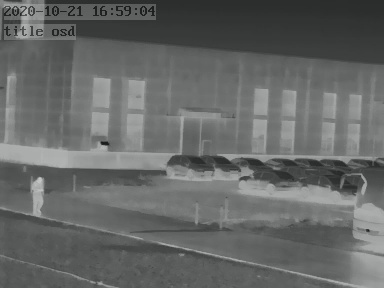person: (30, 175, 44, 215)
vehicle: (239, 169, 302, 193), (164, 152, 212, 179), (307, 174, 355, 200), (203, 153, 242, 178), (233, 154, 269, 172), (344, 156, 379, 172), (262, 155, 295, 170), (279, 155, 311, 169), (318, 156, 348, 170), (297, 155, 324, 169)
